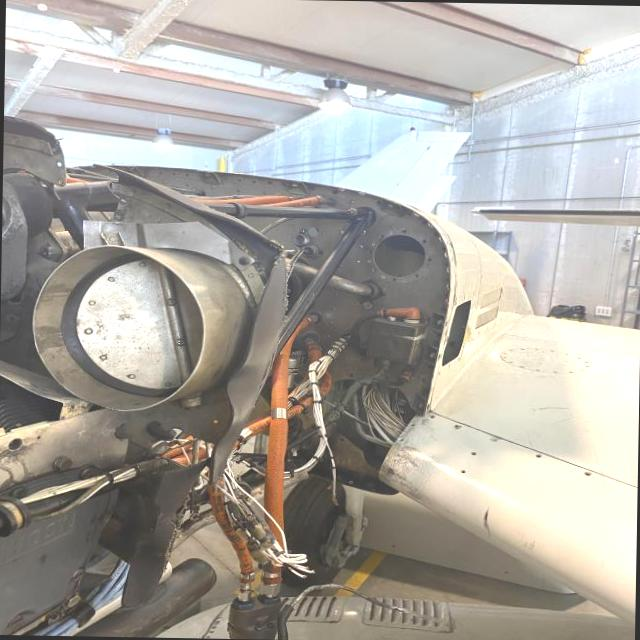Missing Fastener: (408, 421, 418, 426), (430, 412, 438, 418), (584, 469, 592, 474), (398, 436, 406, 441), (472, 449, 478, 454), (536, 453, 542, 457), (461, 468, 466, 472)
